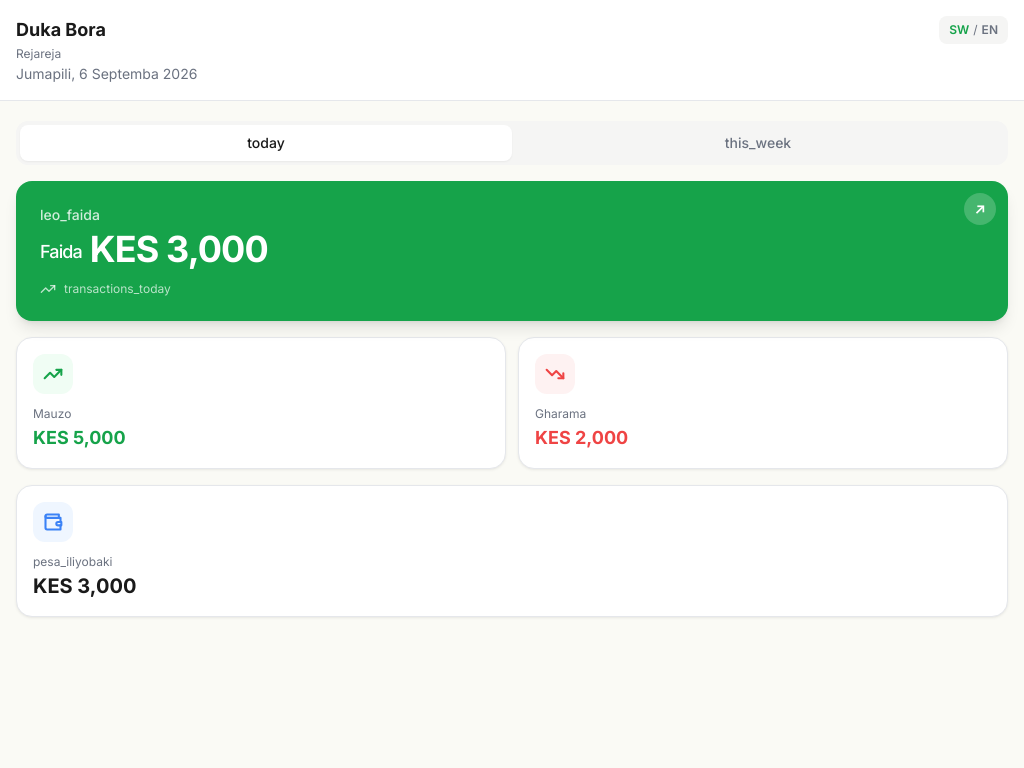
Test case: DashboardScreen › switches to wiki tab
Click the button "this_week" at (758, 143), box [512,125,1004,161]
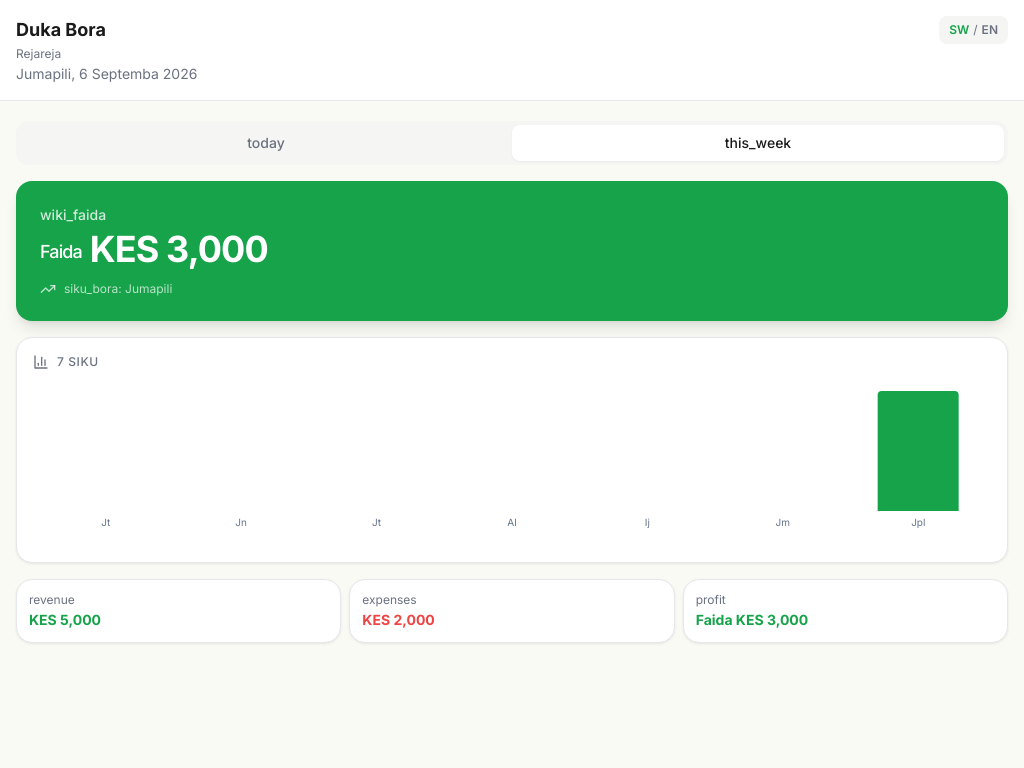
Now the text "wiki_faida" is shown, box [40,206,106,223]
